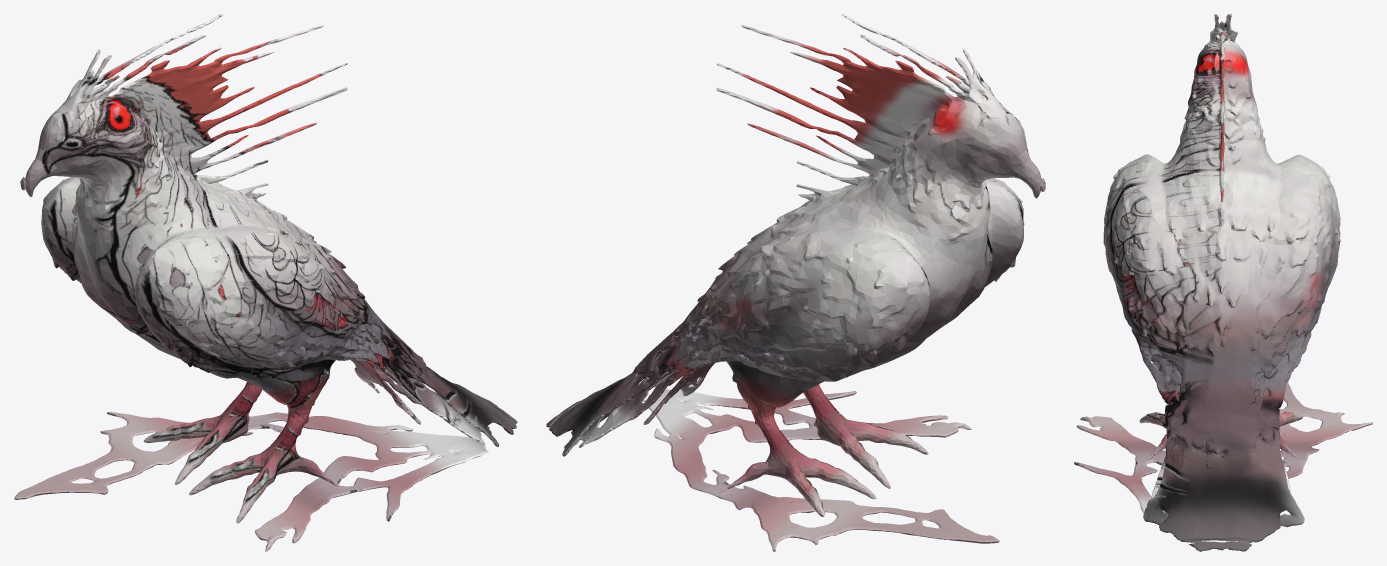
Rendered from pigeon_ghoul_local.glb.
3 renders of one model, left to right at view 1: azimuth 30°, elevation 25°; view 2: azimuth 150°, elevation 25°; view 3: azimuth 270°, elevation 25°, orthographic. The views are drawn at different scales.
Parts seen in each view (by area): view 1: geometry_0; view 2: geometry_0; view 3: geometry_0.
Boxes of the visible parts, <box> form: geometry_0: <box>14,14,517,551</box>; geometry_0: <box>546,14,1045,551</box>; geometry_0: <box>1074,14,1372,551</box>.
Bounding box in the file's own units: 1.29 × 1.2 × 0.8419.
1 material, 1 textured.
